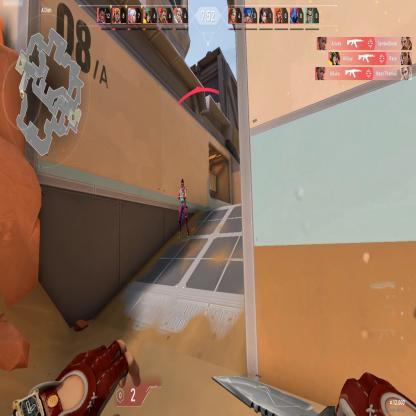enemy: (175, 177, 190, 239)
